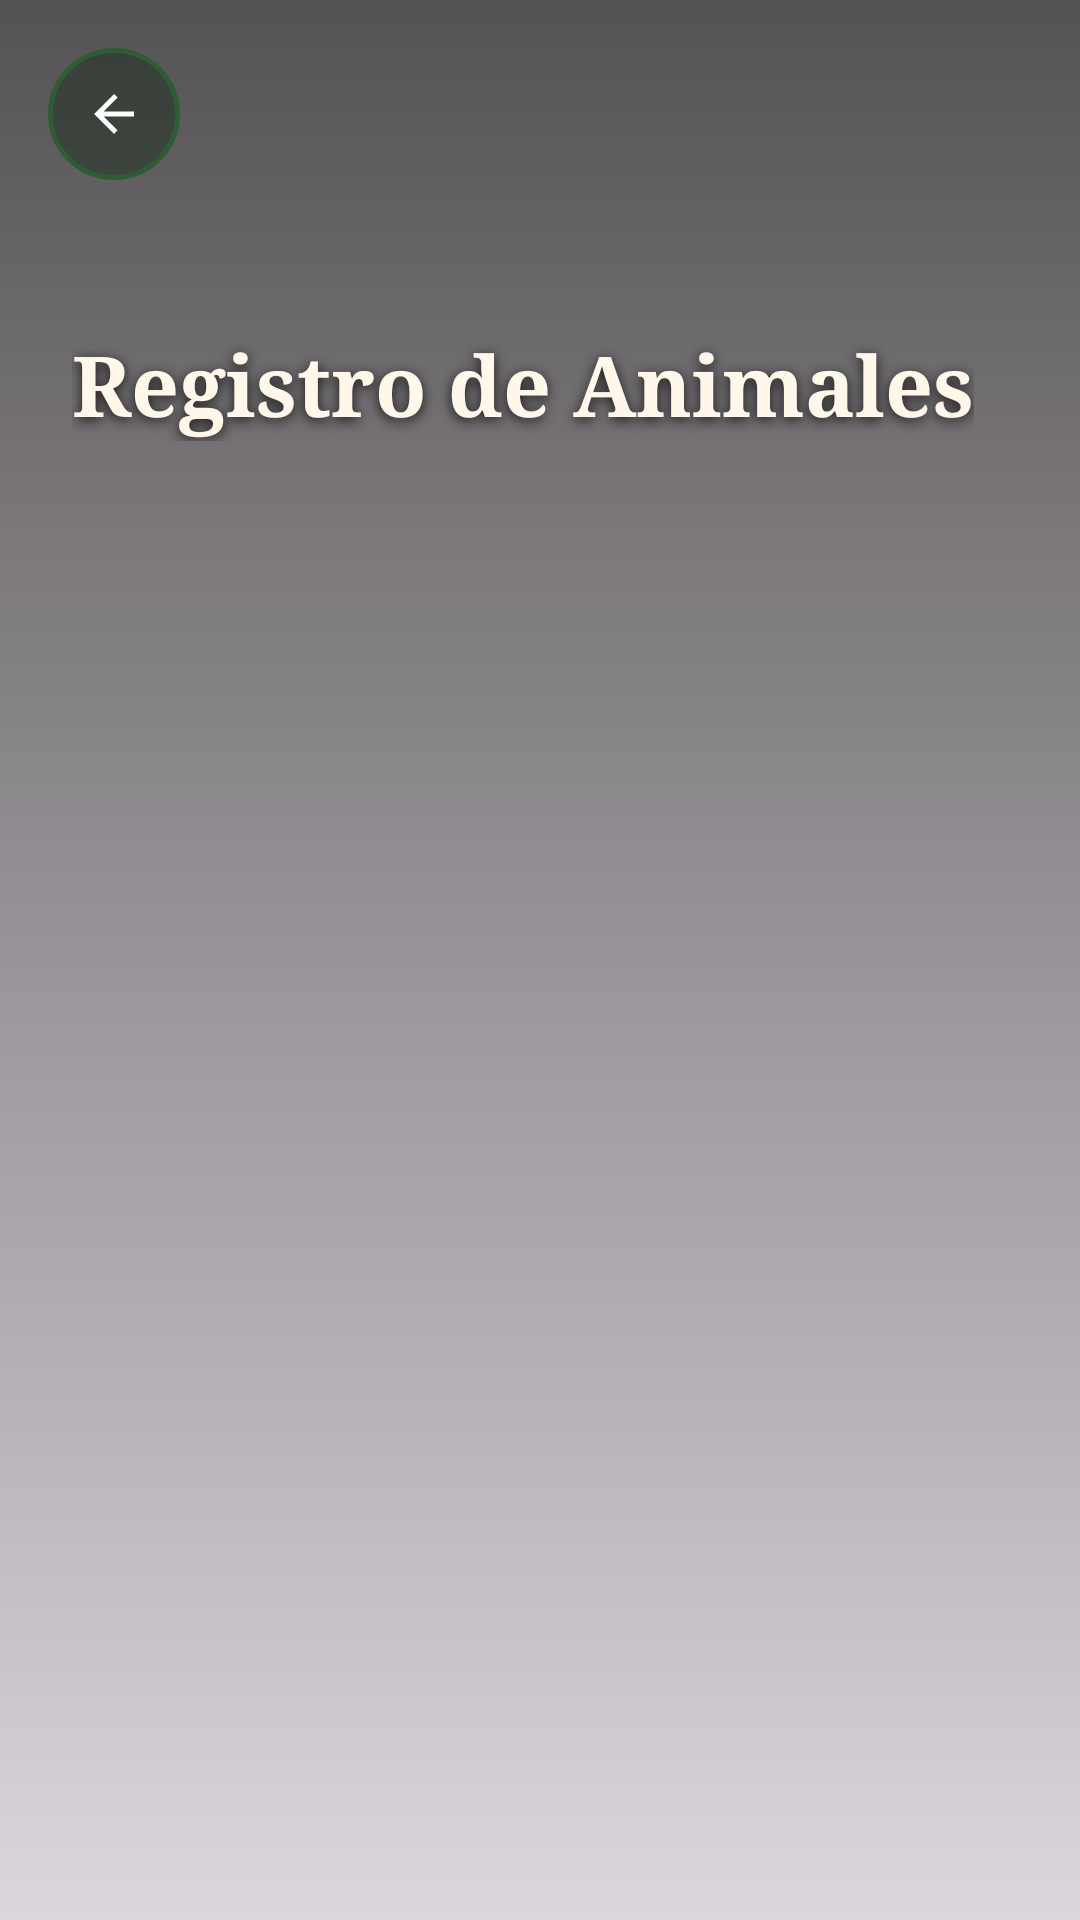

Where to tap for icons on this 1080px×1920px app screen, as point (x, y):
arrow back: point (114, 114)
